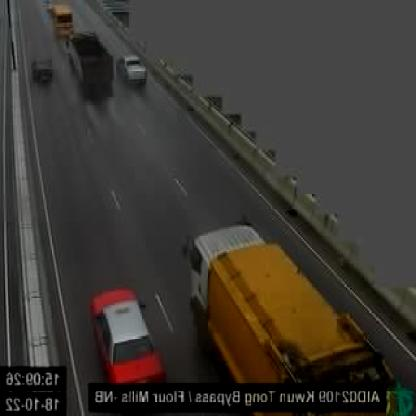Bus: (47, 2, 75, 43)
Car: (90, 285, 170, 388), (118, 53, 149, 88), (31, 50, 56, 88)
Truck: (182, 221, 398, 386), (66, 31, 115, 102)
